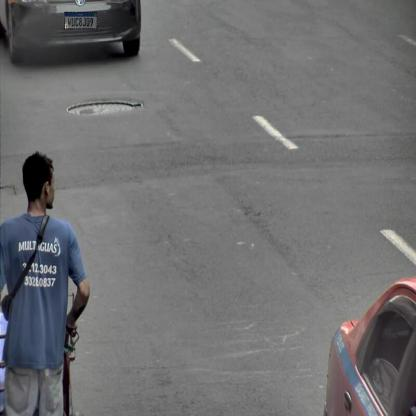PlacaM: (64, 12, 98, 29)
